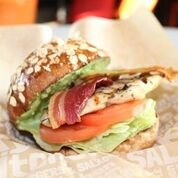soup: (5, 29, 176, 153)
